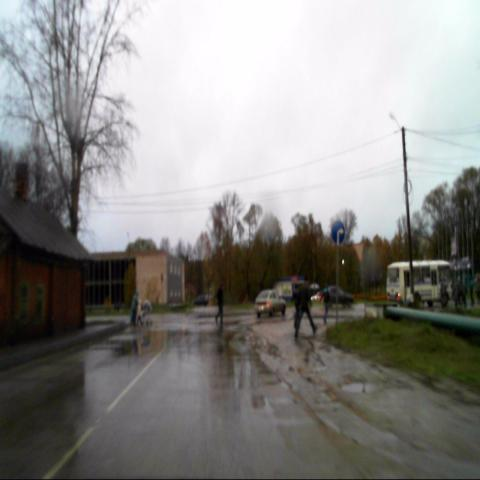2_4: (352, 241, 364, 263)
4_1_2: (331, 220, 345, 246)
